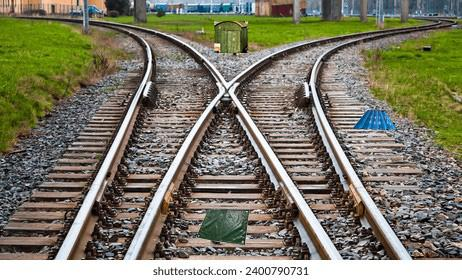Color_steel: (352, 99, 400, 142)
Dust_screen: (198, 203, 252, 248)
